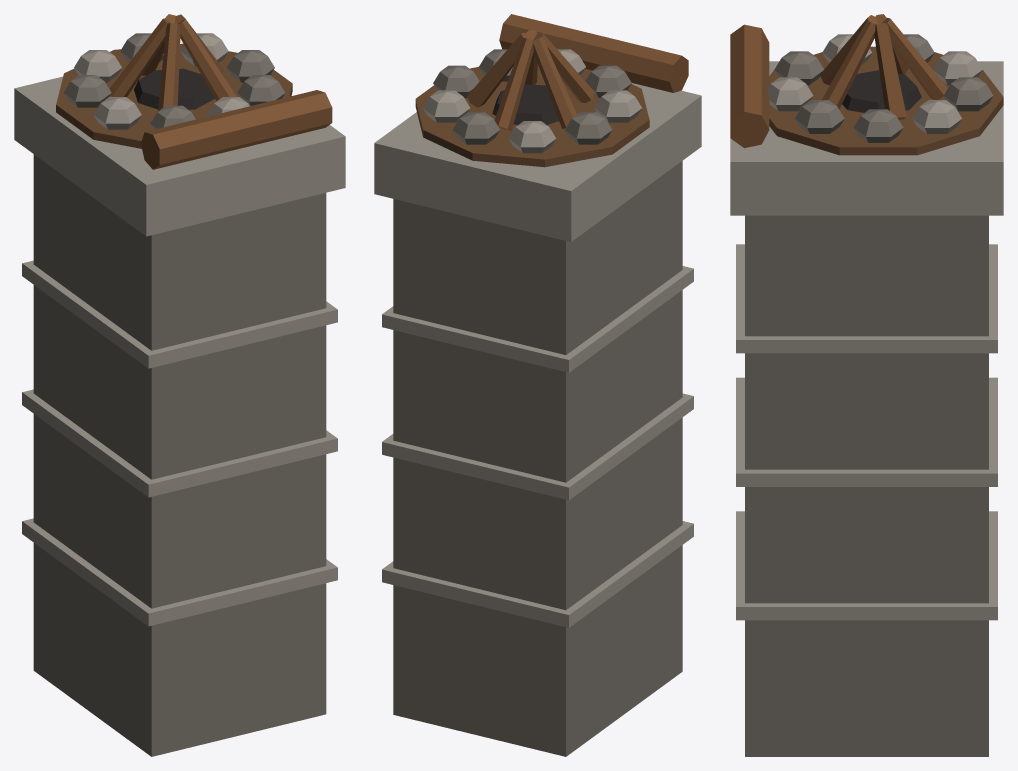
Rendered from campfire.glb.
3 renders of one model, left to right at view 1: azimuth 30°, elevation 25°; view 2: azimuth 150°, elevation 25°; view 3: azimuth 270°, elevation 25°, orthographic. The views are drawn at different scales.
Visible parts, largest first — view 1: campfire; view 2: campfire; view 3: campfire.
Boxes of the visible parts, <box> form: campfire: <box>14,14,345,756</box>; campfire: <box>374,14,701,756</box>; campfire: <box>730,14,1003,756</box>.
Bounding box in the file's own units: 1.62 × 5.2 × 1.86.
